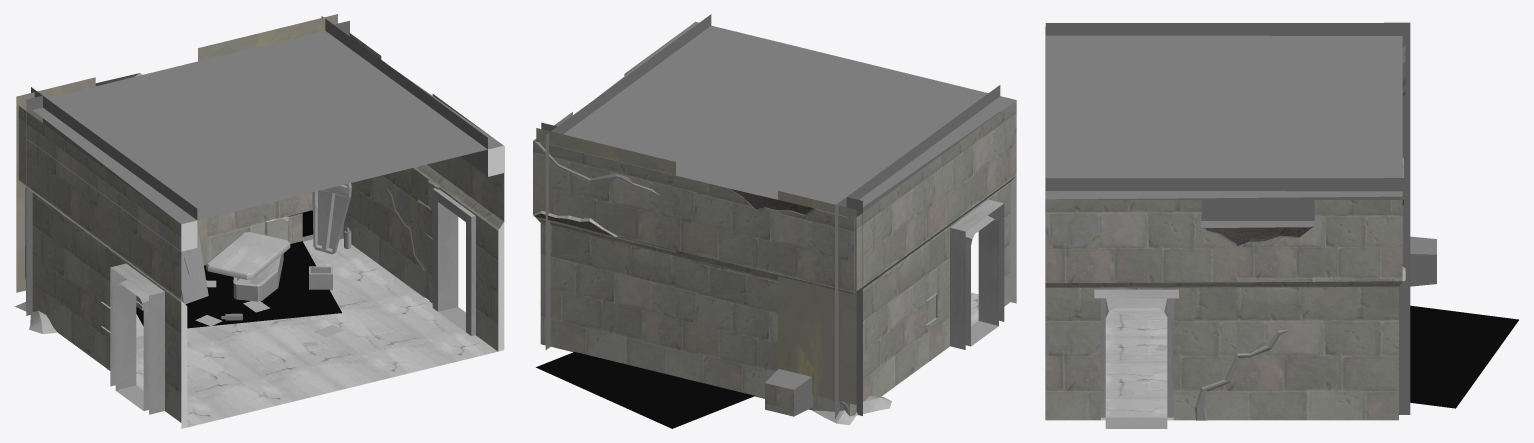
File: MSH_QuestMausoleum_L1_R1_optimized.fbx
3 renders of one model, left to right at view 1: azimuth 30°, elevation 25°; view 2: azimuth 150°, elevation 25°; view 3: azimuth 270°, elevation 25°, orthographic. The views are drawn at different scales.
Parts seen in each view (by area): view 1: lightmap3, lightmap1, lightmap0, lightmap2; view 2: lightmap1, lightmap3, lightmap0; view 3: lightmap1, lightmap3.
Part boxes in pixels (left/top/right/bottom): lightmap3: left=25, top=16, right=503, bottom=427; lightmap1: left=14, top=14, right=504, bottom=422; lightmap0: left=181, top=145, right=504, bottom=428; lightmap2: left=136, top=227, right=332, bottom=310; lightmap1: left=533, top=30, right=1016, bottom=428; lightmap3: left=539, top=14, right=1016, bottom=418; lightmap0: left=1000, top=100, right=1016, bottom=303; lightmap1: left=1045, top=46, right=1518, bottom=428; lightmap3: left=1045, top=22, right=1410, bottom=420.
Bounding box in the file's own units: 10.37 × 6.42 × 11.25.
